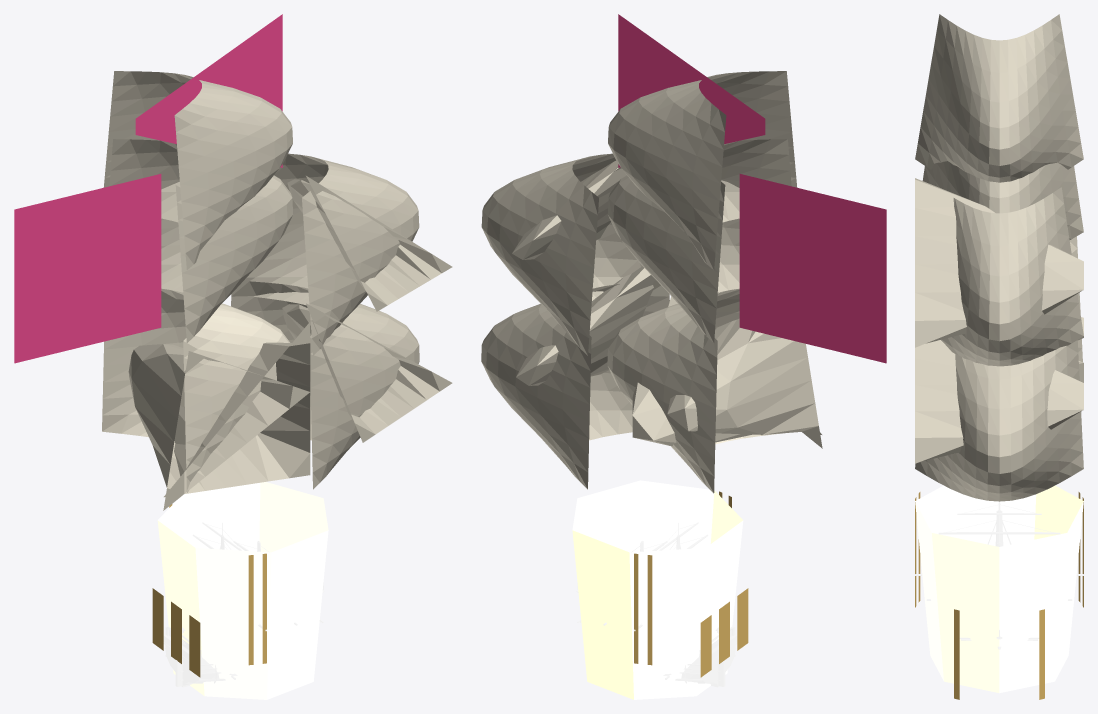
File: navire-brick.glb
3 views of the same model, side by side, from view 1: azimuth 30°, elevation 25°; view 2: azimuth 150°, elevation 25°; view 3: azimuth 270°, elevation 25° (orthographic).
Visible parts, largest first — view 1: navire_lumieres.008, drapeau.013, voile_perroquet.009, voile_misaine_hune.008, voile_grande.013, voile_hune.009, voile_misaine.013, voile_brigantine2, voile_brigantine, flamme.013, voile_foc2.008, voile_foc.009 (+2 smaller); view 2: navire_lumieres.008, drapeau.013, voile_perroquet.009, voile_misaine_hune.008, voile_misaine.013, voile_hune.009, voile_grande.013, voile_brigantine, flamme.013, voile_foc2.008, navire_vitres.008, voile_foc.009 (+2 smaller); view 3: navire_lumieres.008, voile_perroquet.009, voile_misaine_hune.008, voile_misaine.013, voile_foc.009, voile_foc2.008, voile_hune.009, navire_vitres.008, navire_corps.013, voile_grande.013.
Part boxes in pixels (x1,y1,x2,y2): navire_lumieres.008: (157,482,328,699); drapeau.013: (14,174,161,363); voile_perroquet.009: (103,71,292,269); voile_misaine_hune.008: (244,153,419,355); voile_grande.013: (102,288,289,492); voile_hune.009: (109,139,293,342); voile_misaine.013: (231,281,419,489); voile_brigantine2: (164,322,310,497); voile_brigantine: (128,344,309,510); flamme.013: (135,14,282,167); voile_foc2.008: (282,303,452,442); voile_foc.009: (287,176,452,311); navire_lumieres.008: (572,480,743,699); drapeau.013: (739,174,886,363); voile_perroquet.009: (608,71,797,269); voile_misaine_hune.008: (481,153,642,355); voile_misaine.013: (481,281,669,489); voile_hune.009: (608,139,791,342); voile_grande.013: (607,288,785,493); voile_brigantine: (667,318,822,448); flamme.013: (618,14,765,167); voile_foc2.008: (516,266,656,385); navire_vitres.008: (634,491,748,677); voile_foc.009: (512,161,626,259); navire_lumieres.008: (915,485,1083,693); voile_perroquet.009: (915,14,1083,182); voile_misaine_hune.008: (941,187,1083,366); voile_misaine.013: (915,340,1083,501); voile_foc.009: (915,178,1083,347); voile_foc2.008: (915,340,1083,463); voile_hune.009: (922,161,1083,239); navire_vitres.008: (915,492,1083,699); navire_corps.013: (915,501,1083,649); voile_grande.013: (1069,236,1082,362).
Size of the model in its own units: 5.49 by 8.42 by 2.
